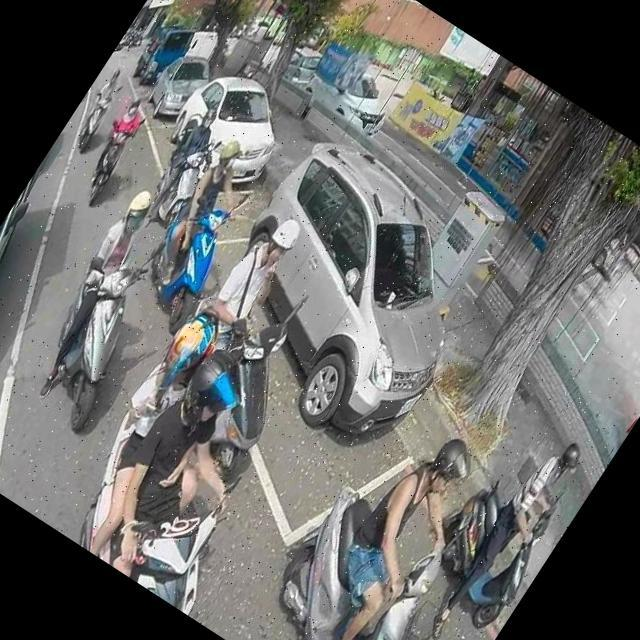person: (49, 303, 278, 581), (74, 340, 304, 606), (284, 412, 506, 640), (421, 423, 596, 640), (13, 179, 181, 405), (181, 203, 314, 370), (144, 131, 272, 296), (132, 99, 227, 223), (84, 91, 157, 184), (73, 67, 131, 143)
